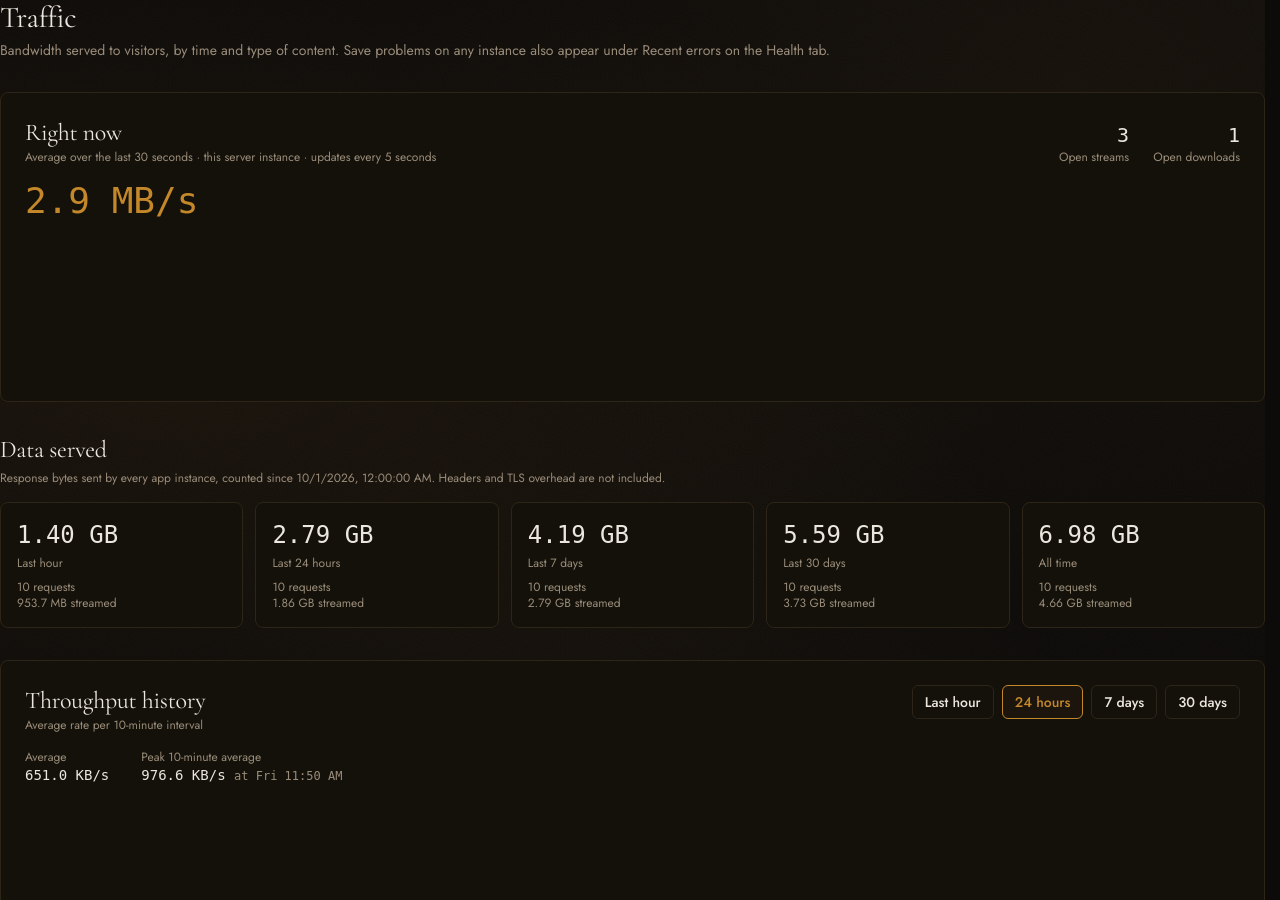
loads another range when selected
expect the heading "Throughput history" is shown: met, box x1=25 y1=685 x2=206 y2=717
What coordinates should you click on to do the following:
click the button "7 days"
I would click on:
 (1124, 702)
Its box is x1=1091 y1=685 x2=1157 y2=719.
(page scrolled)
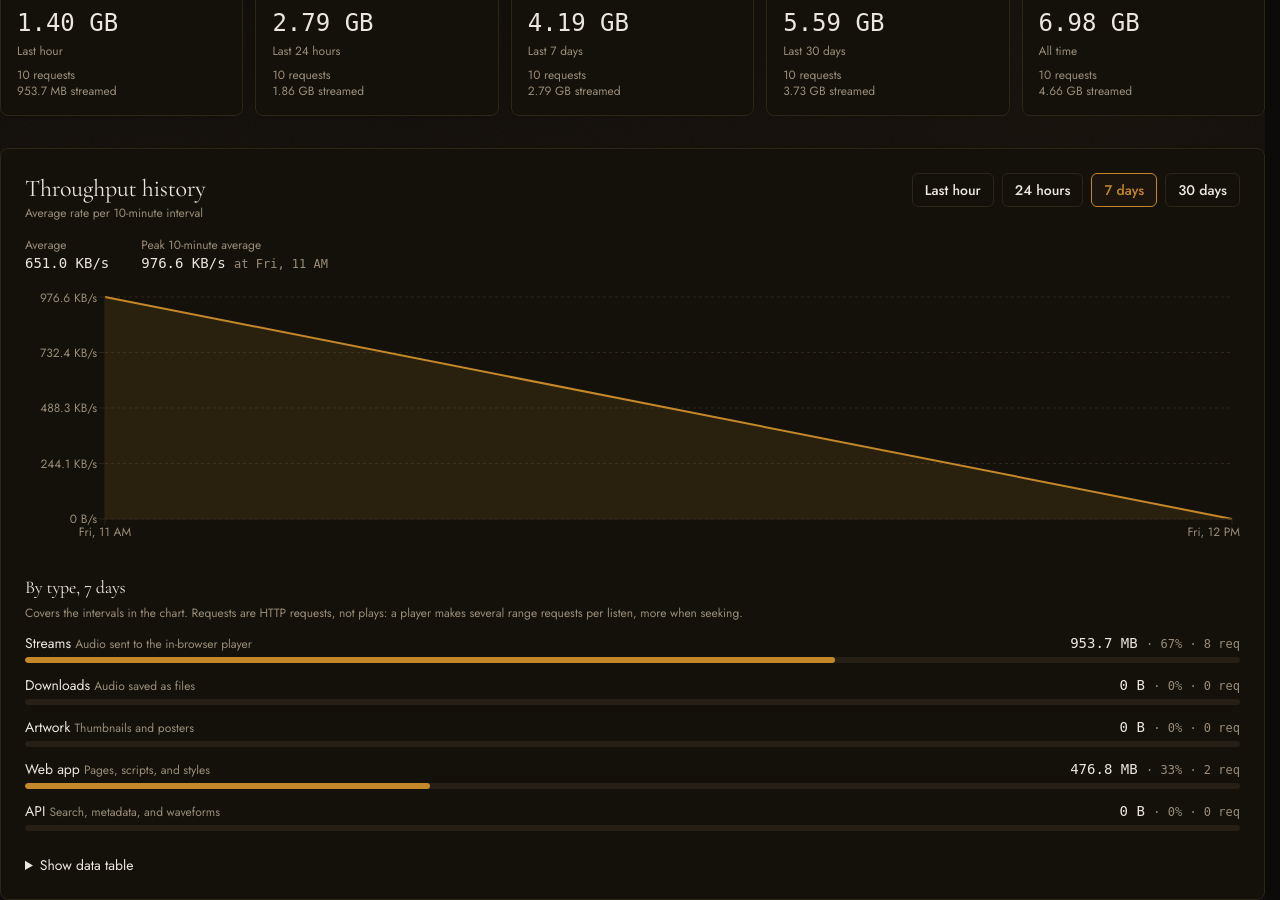
expect the heading "By type, 7 days" is shown: met, box x1=25 y1=576 x2=126 y2=598
